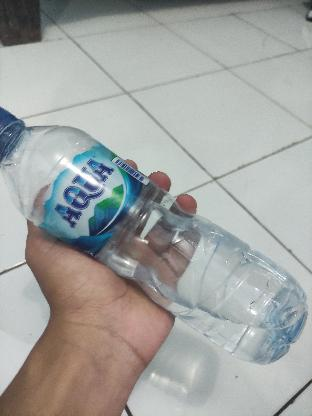Plastic Bottle: (0, 100, 310, 400)
